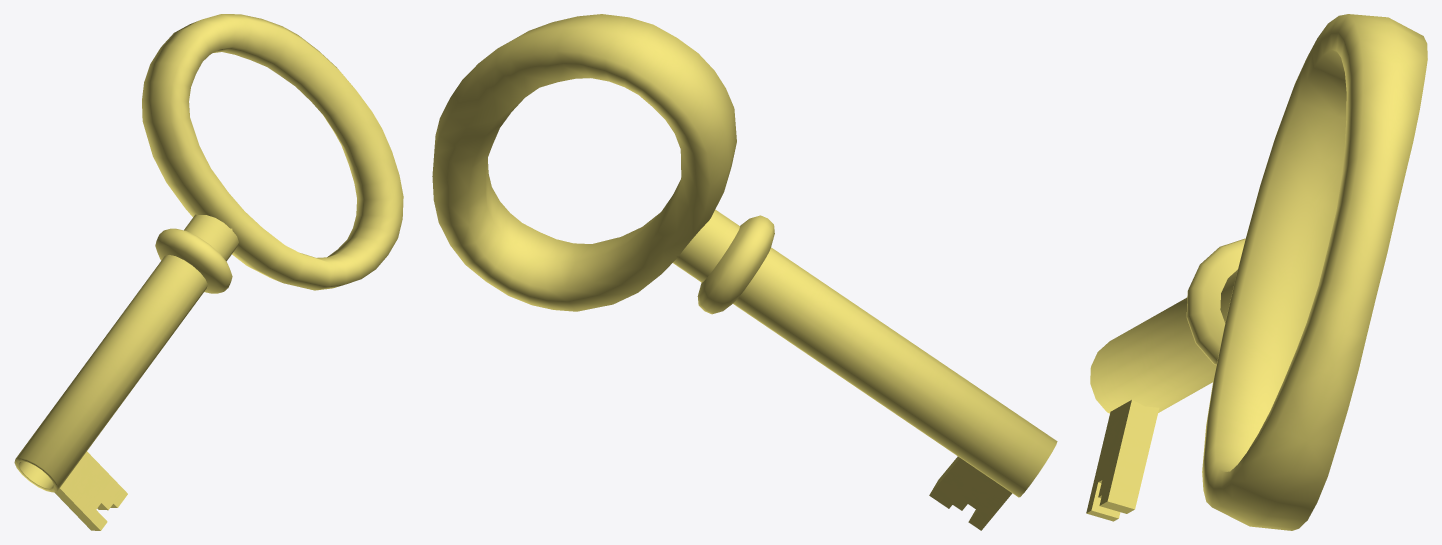
The picture shows the model from 3 angles, left to right: view 1: azimuth 30°, elevation 25°; view 2: azimuth 150°, elevation 25°; view 3: azimuth 270°, elevation 25°; orthographic projection. The views are drawn at different scales.
Visible parts, largest first — view 1: Key9; view 2: Key9; view 3: Key9.
Boxes of the visible parts, bbox=[...] form: Key9: bbox=[14, 14, 403, 530]; Key9: bbox=[432, 14, 1057, 530]; Key9: bbox=[1086, 14, 1427, 530].
Bounding box in the file's own units: 0.0544 × 0.0493 × 0.0233.
Materials: 1 (1 with a texture image).
